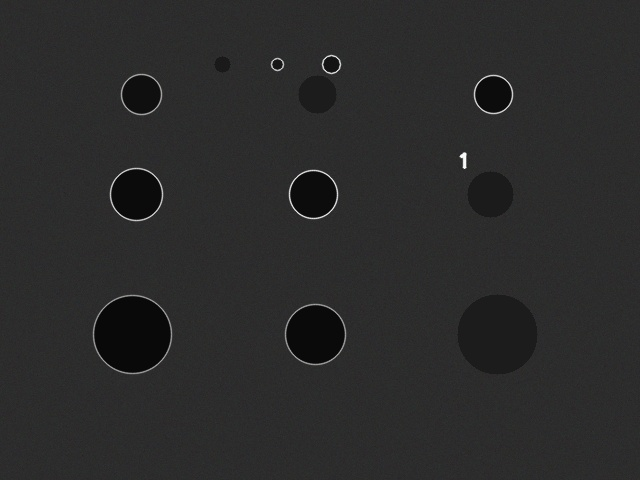hole: (457, 294, 537, 374), (93, 295, 171, 373), (285, 304, 345, 364), (110, 168, 162, 220), (289, 170, 337, 218), (467, 171, 513, 217), (121, 74, 161, 114), (298, 75, 336, 113), (474, 75, 512, 113), (322, 55, 340, 73), (214, 56, 230, 72), (271, 58, 283, 70)
